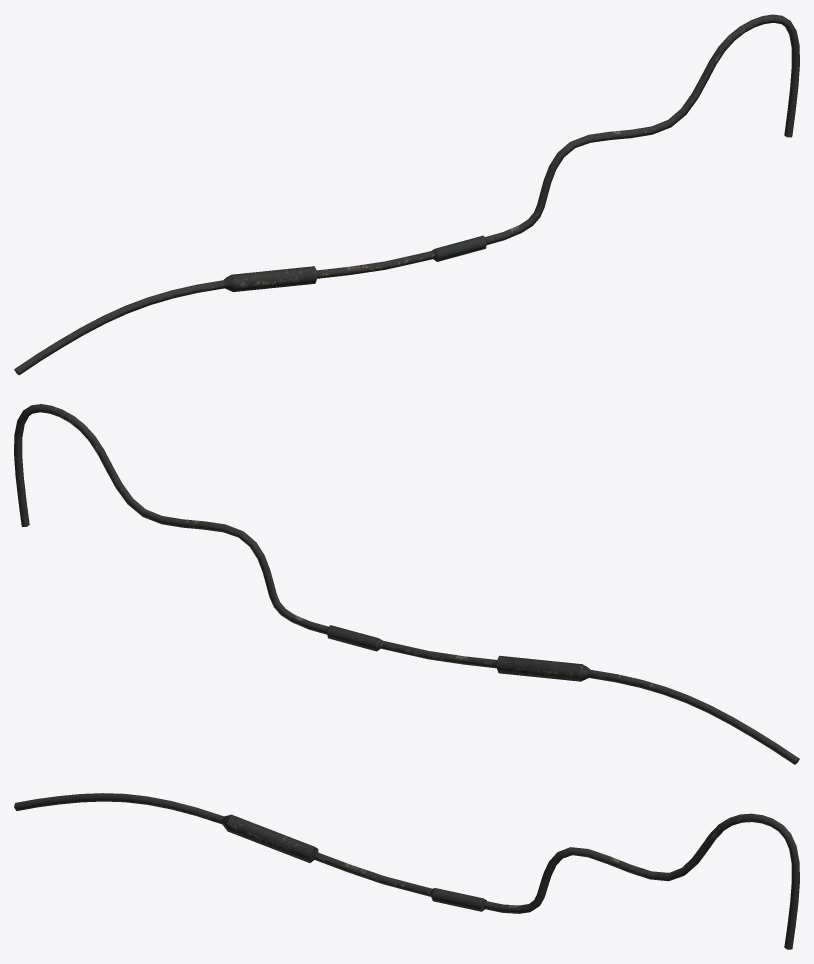
Rendered from plane_wreckage_cable_06.dae.
3 views of the same model, one above another, from view 1: azimuth 30°, elevation 25°; view 2: azimuth 150°, elevation 25°; view 3: azimuth 330°, elevation 25° (orthographic).
Visible parts, largest first — view 1: plane_wreckage_cable_06; view 2: plane_wreckage_cable_06; view 3: plane_wreckage_cable_06.
Boxes of the visible parts, x1,y1,x2,y2 form: plane_wreckage_cable_06: (14, 14, 799, 375); plane_wreckage_cable_06: (14, 404, 799, 764); plane_wreckage_cable_06: (14, 793, 799, 949).
Bounding box in the file's own units: 182 × 39.16 × 3.56.
